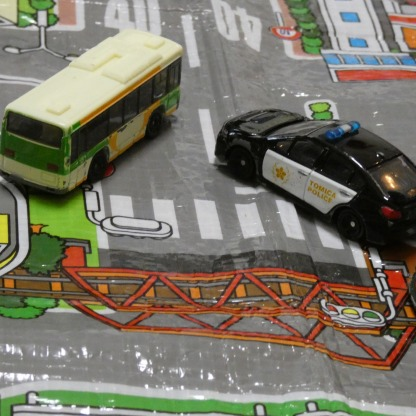car: (0, 26, 185, 197), (216, 106, 415, 246)
